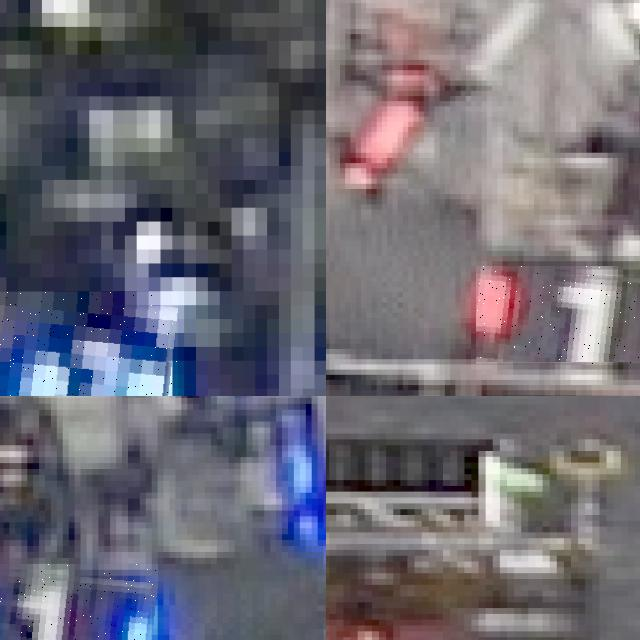B1: (0, 563, 157, 640)
B2: (0, 291, 178, 396)
R1: (476, 266, 640, 364)
